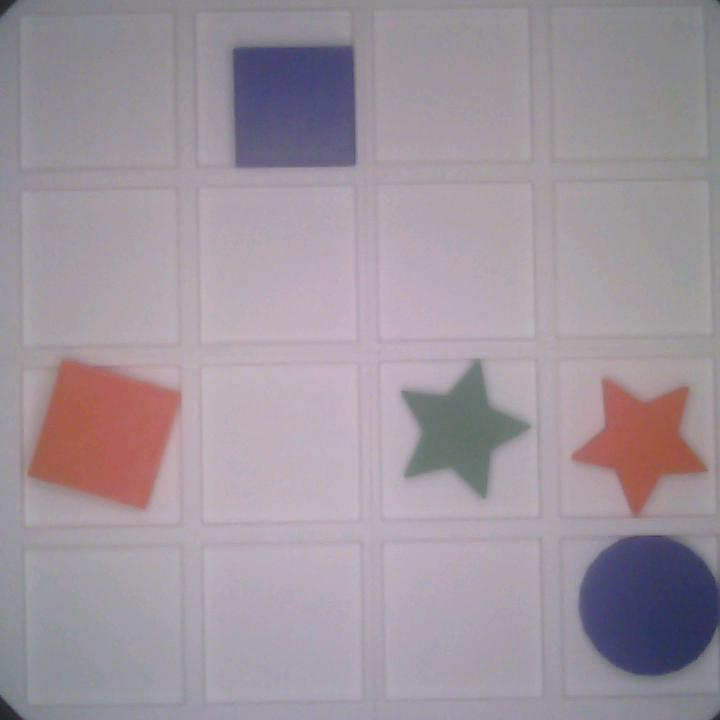Blue circle: (573, 535, 720, 683)
Blue square: (232, 39, 354, 168)
Green star: (399, 355, 533, 503)
Orange square: (25, 351, 184, 515)
Orange star: (573, 373, 712, 519)
